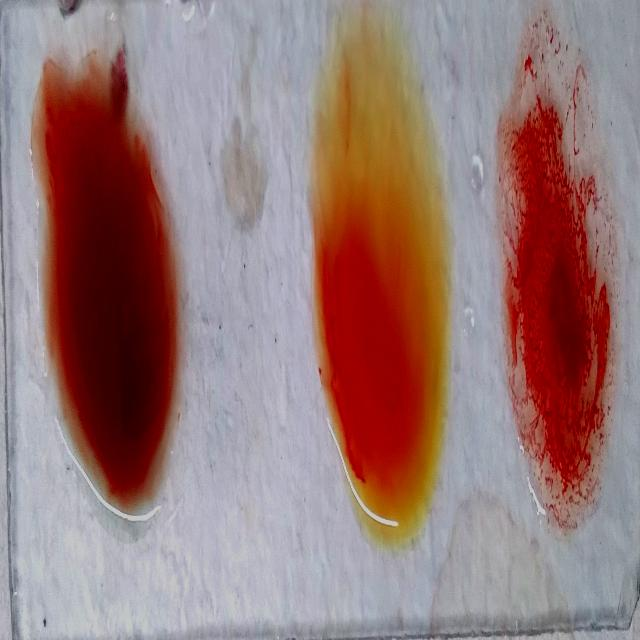D: (505, 24, 613, 522)
